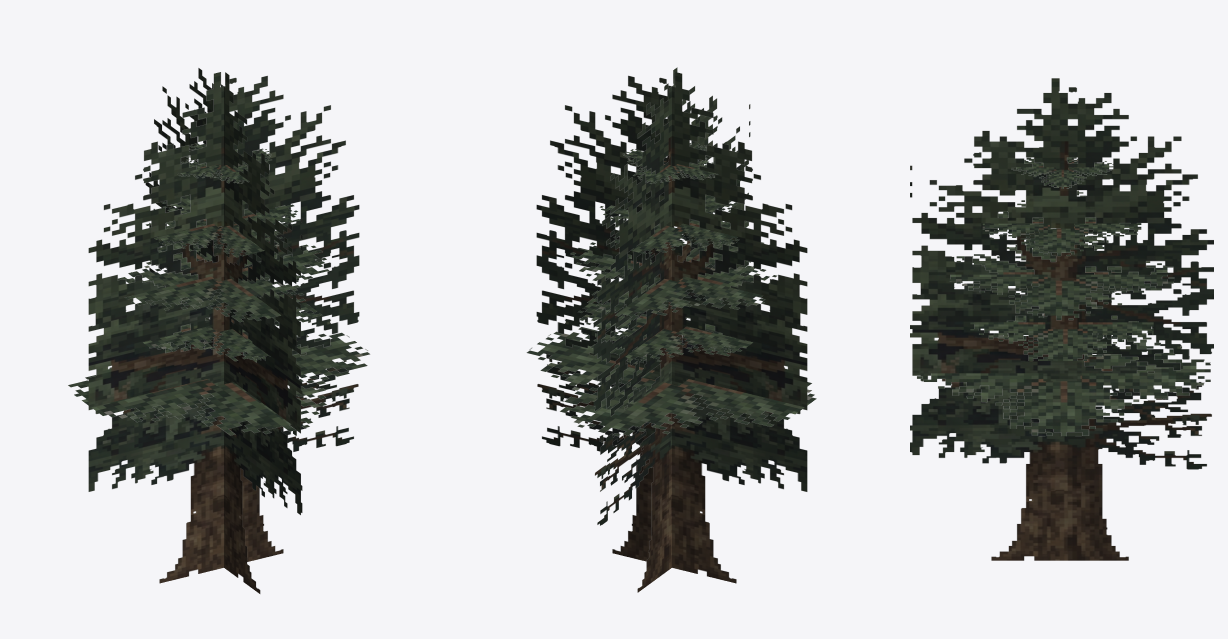
Rendered from pine1.glb.
3 renders of one model, left to right at view 1: azimuth 30°, elevation 25°; view 2: azimuth 150°, elevation 25°; view 3: azimuth 270°, elevation 25°, orthographic. The views are drawn at different scales.
Parts seen in each view (by area): view 1: Plane; view 2: Plane; view 3: Plane.
Part boxes in pixels (x1,y1,x2,y2): Plane: (68, 68, 370, 593); Plane: (526, 67, 816, 592); Plane: (910, 78, 1213, 560).
Bounding box in the file's own units: 2.41 × 4.22 × 2.41.
1 material, 1 textured.
